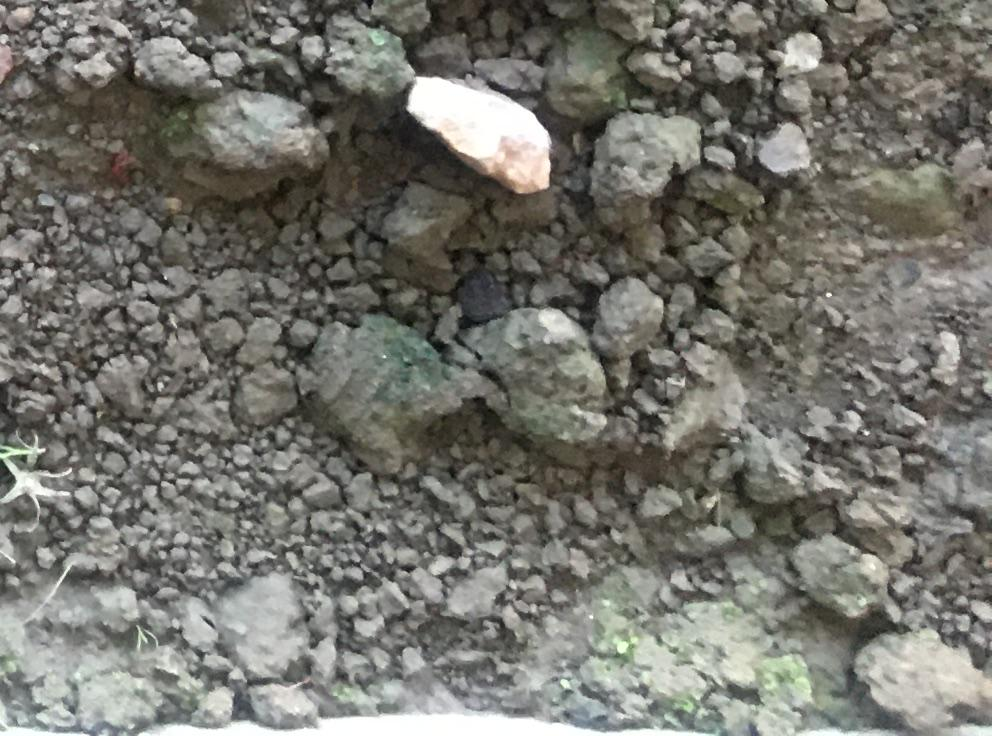block: (457, 299, 619, 458), (301, 310, 450, 469), (148, 85, 332, 200), (408, 72, 558, 200), (589, 108, 701, 238), (858, 624, 992, 728)
